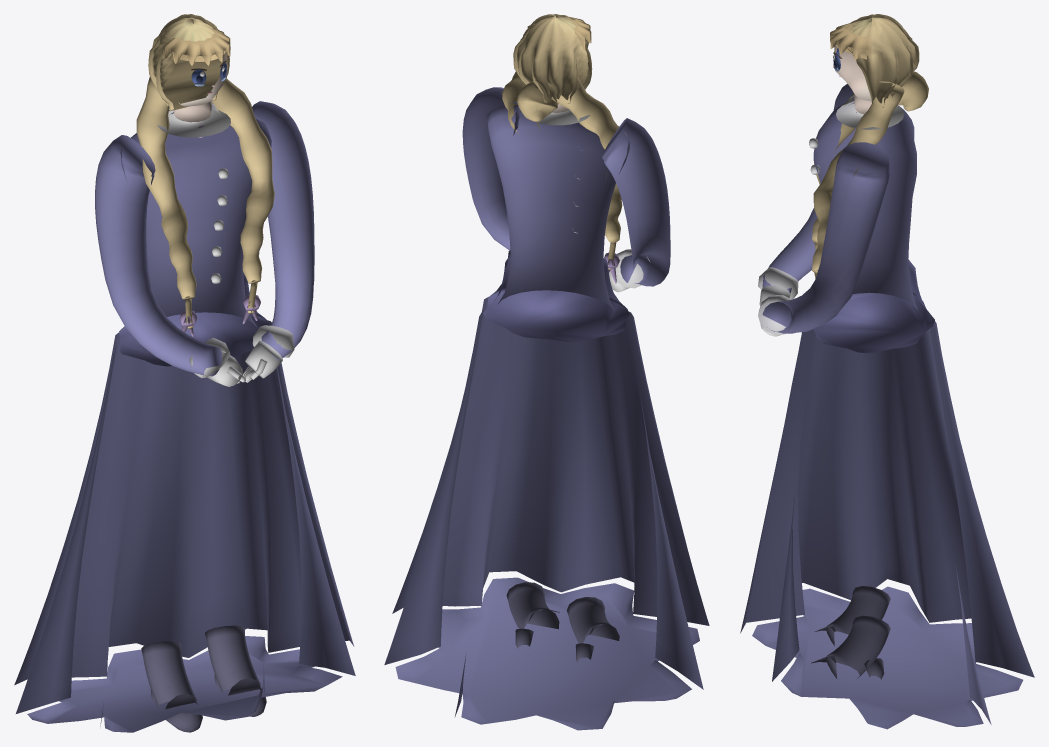
Rendered from GardenKeeper.glb.
3 renders of one model, left to right at view 1: azimuth 30°, elevation 25°; view 2: azimuth 150°, elevation 25°; view 3: azimuth 270°, elevation 25°, orthographic. The views are drawn at different scales.
Visible parts, largest first — view 1: Keeper; view 2: Keeper; view 3: Keeper.
Boxes of the visible parts, left/top/right/bottom form: Keeper: left=14, top=14, right=355, bottom=732; Keeper: left=384, top=14, right=709, bottom=730; Keeper: left=740, top=14, right=1034, bottom=729.
Bounding box in the file's own units: 0.8158 × 1.65 × 0.6603.
